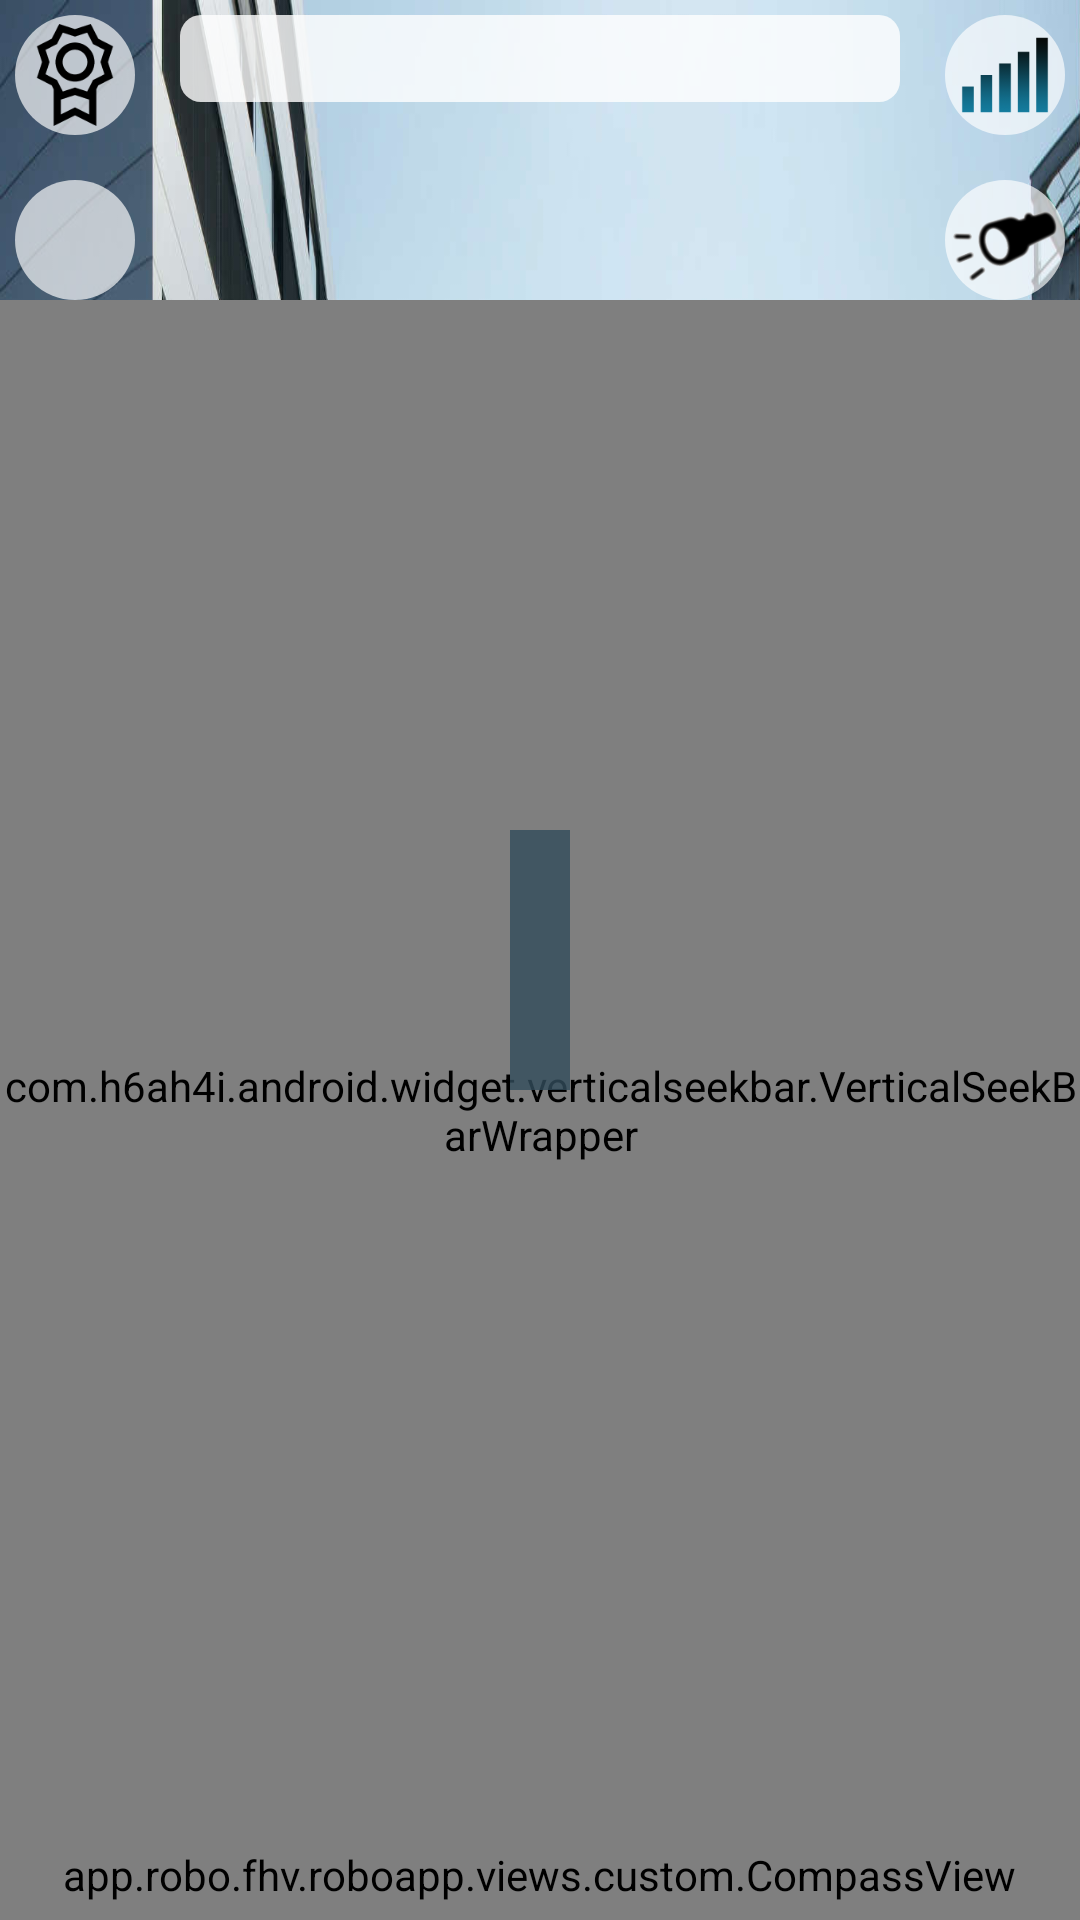

Named icons in this screenshot (1080 x 1920) and their centers, (x,y):
lamp: (1005,240)
ranking: (75,75)
